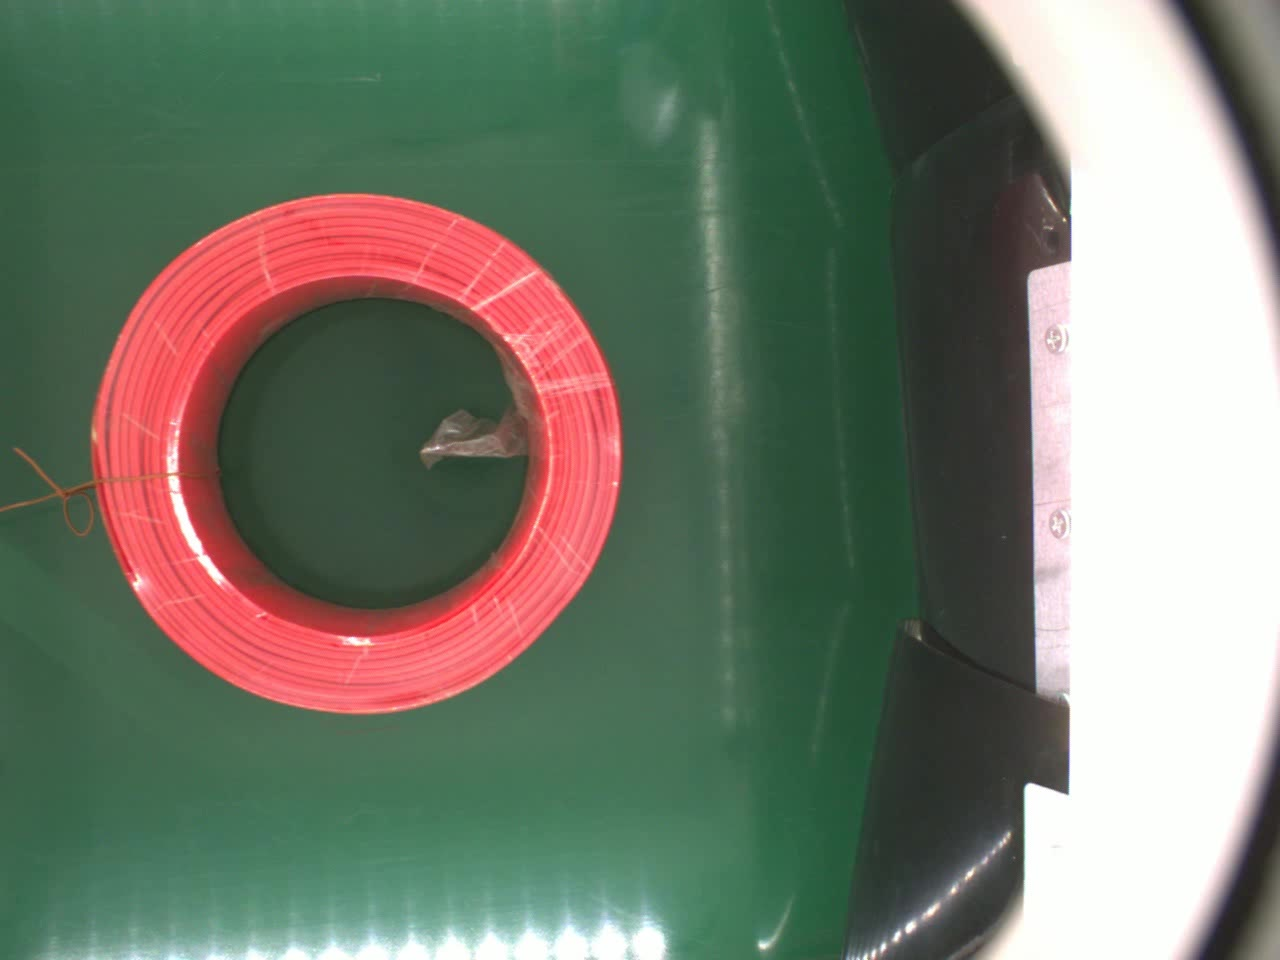red: (85, 190, 629, 721)
